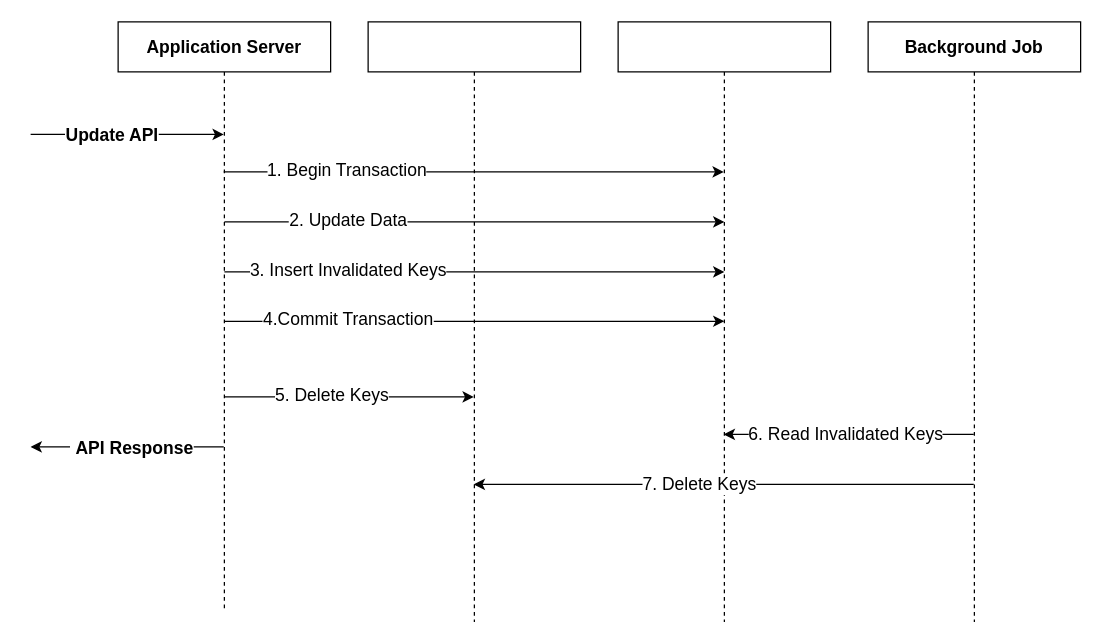
Some shapes in this 1103 by 644 pixel diagram are drawn without their labels. Each missing label, with the box of its shape:
Database: (617, 21, 831, 622)
Memcached: (367, 21, 581, 622)
